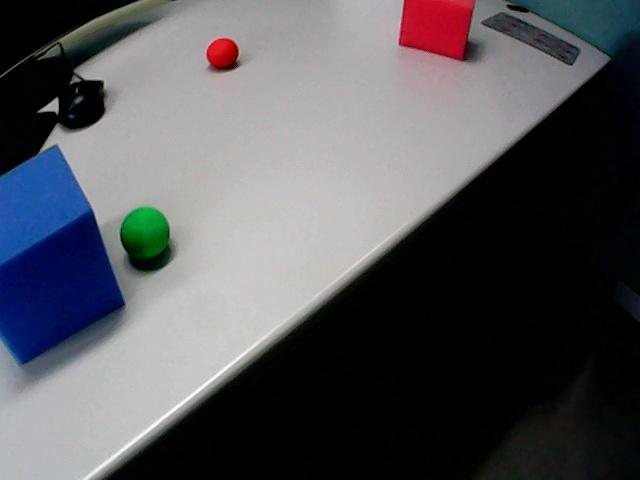blue_block: (0, 146, 123, 362), (515, 0, 639, 54)
red_block: (399, 0, 474, 59)
